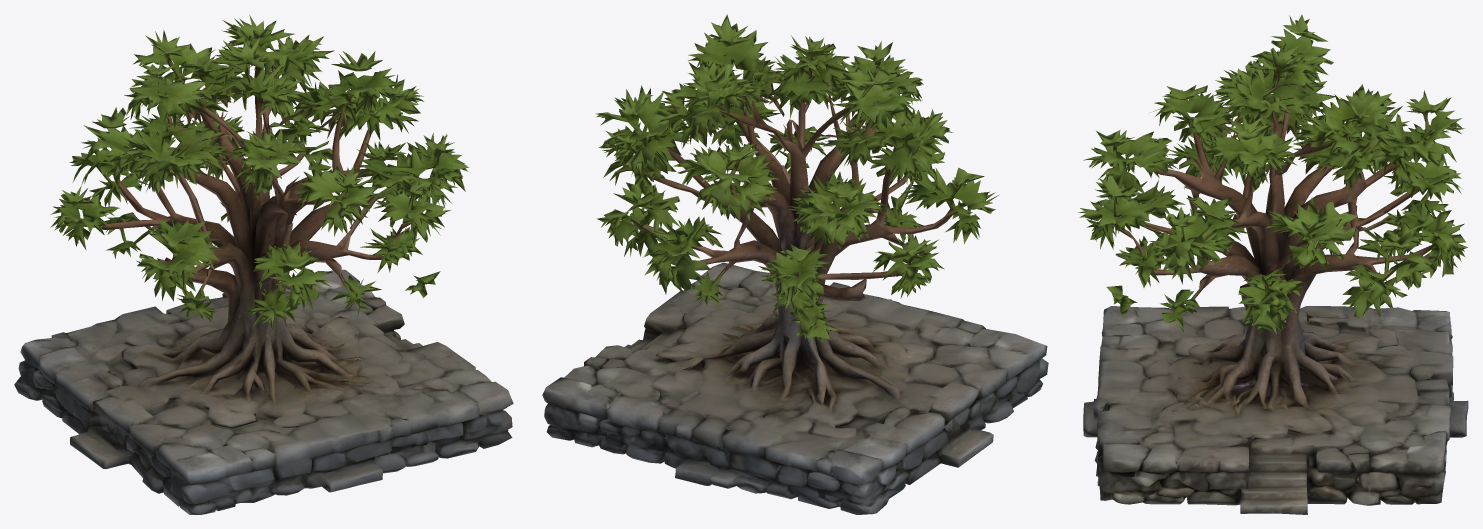
Rendered from chautara.glb.
3 renders of one model, left to right at view 1: azimuth 30°, elevation 25°; view 2: azimuth 150°, elevation 25°; view 3: azimuth 270°, elevation 25°, orthographic. The views are drawn at different scales.
Parts seen in each view (by area): view 1: tripo_node_a33d2ff5-53db-4f94-a1fd-a503350040da; view 2: tripo_node_a33d2ff5-53db-4f94-a1fd-a503350040da; view 3: tripo_node_a33d2ff5-53db-4f94-a1fd-a503350040da.
Part boxes in pixels (<box>): tripo_node_a33d2ff5-53db-4f94-a1fd-a503350040da: <box>14,15,513,514</box>; tripo_node_a33d2ff5-53db-4f94-a1fd-a503350040da: <box>542,14,1048,514</box>; tripo_node_a33d2ff5-53db-4f94-a1fd-a503350040da: <box>1078,14,1468,514</box>.
Size of the model in its own units: 1.25 by 1.2 by 1.15.
Materials: 1 (1 with a texture image).
